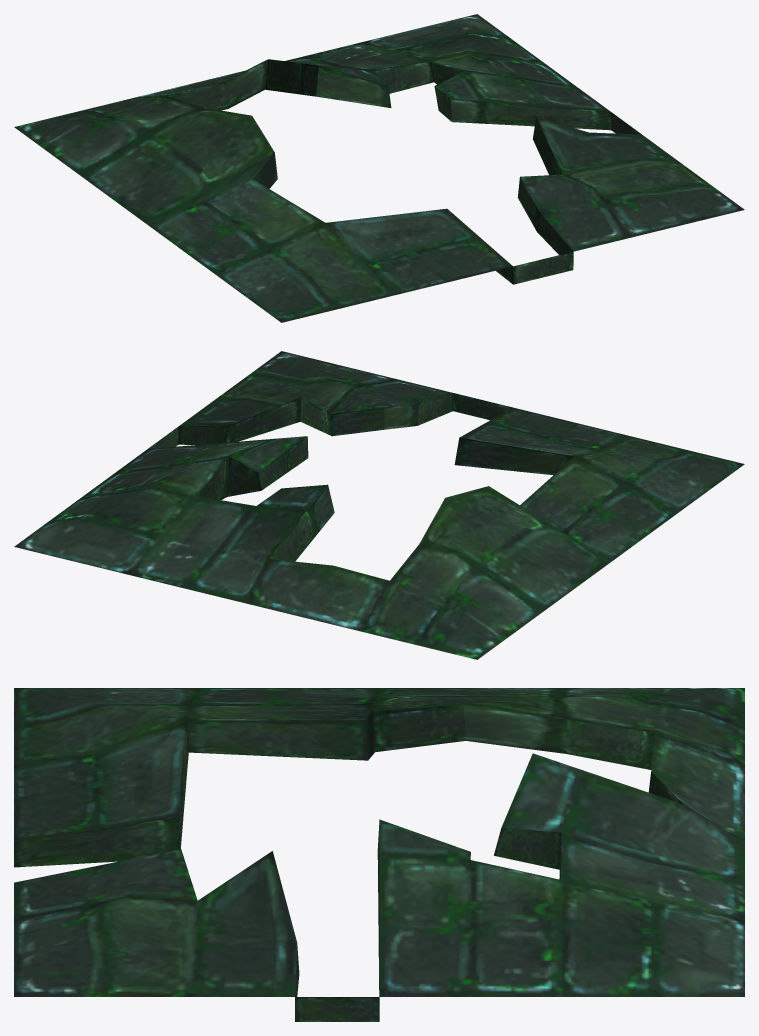
File: stemple_floor_buckled_noshadow_01.fbx
The picture shows the model from 3 angles, top to bottom: view 1: azimuth 30°, elevation 25°; view 2: azimuth 150°, elevation 25°; view 3: azimuth 270°, elevation 25°; orthographic projection. The views are drawn at different scales.
Parts seen in each view (by area): view 1: sunken_tileset/sunken_floor02_mat; view 2: sunken_tileset/sunken_floor02_mat; view 3: sunken_tileset/sunken_floor02_mat.
Boxes of the visible parts, box(x1,y1,x2,y2) form: sunken_tileset/sunken_floor02_mat: box(14, 14, 744, 322); sunken_tileset/sunken_floor02_mat: box(14, 351, 744, 659); sunken_tileset/sunken_floor02_mat: box(14, 688, 744, 1021).
Bounding box in the file's own units: 4 × 0.6709 × 4.
